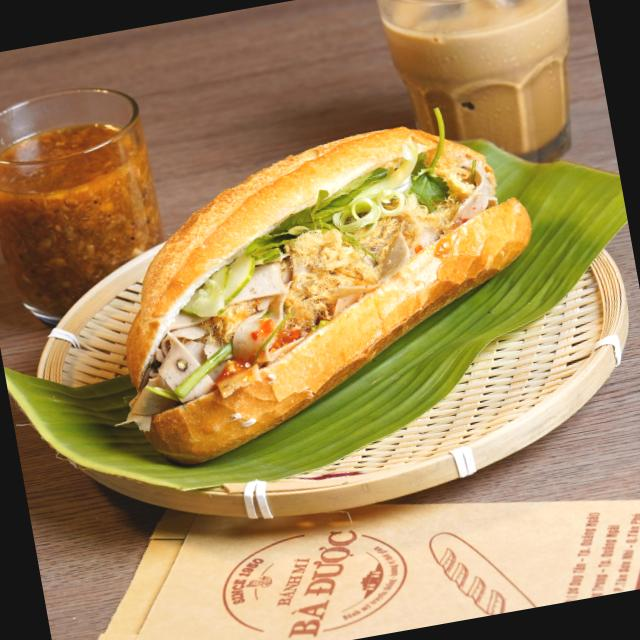banh mi: (126, 111, 530, 462)
